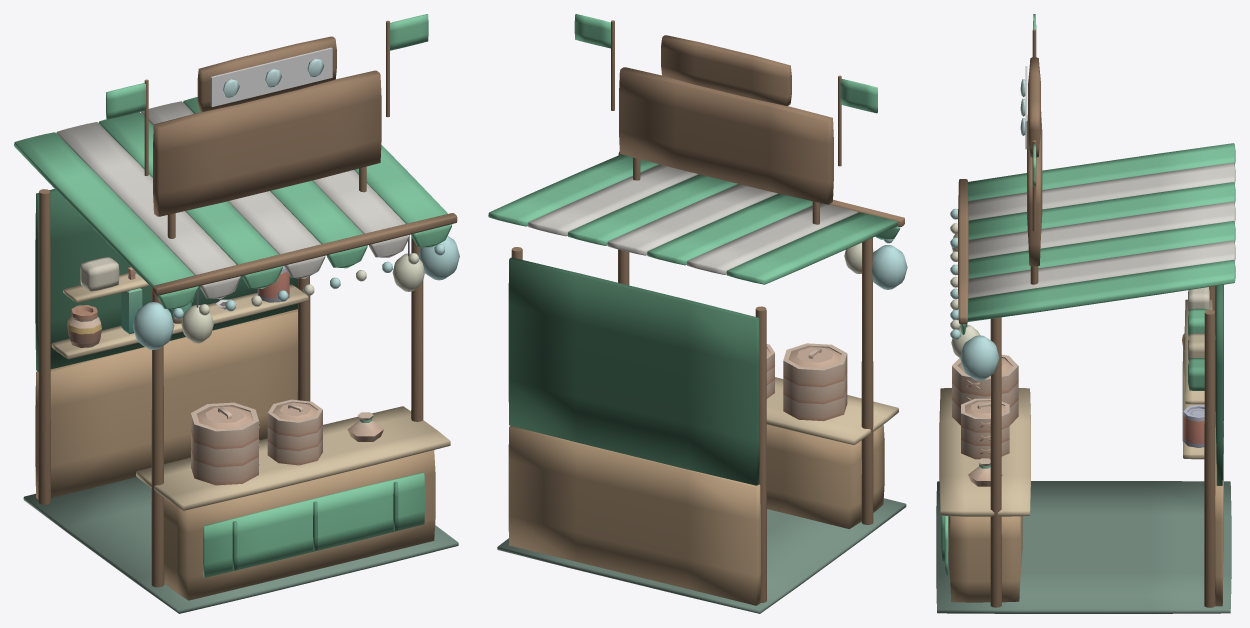
File: stall_dumplings.glb
3 views of the same model, side by side, from view 1: azimuth 30°, elevation 25°; view 2: azimuth 150°, elevation 25°; view 3: azimuth 270°, elevation 25° (orthographic). The views are drawn at different scales.
Visible parts, largest first — view 1: body, level3, level2; view 2: body, level3, level2; view 3: body, level2, level3.
Boxes of the visible parts, x1,y1,x2,y2 form: body: [14, 70, 458, 613]; level3: [106, 14, 428, 175]; level2: [63, 236, 459, 349]; body: [488, 67, 906, 613]; level3: [574, 14, 877, 166]; level2: [871, 239, 907, 289]; body: [936, 112, 1235, 613]; level2: [950, 208, 1212, 404]; level3: [1020, 14, 1040, 231].
Bounding box in the file's own units: 3.2 × 4.68 × 2.73.
